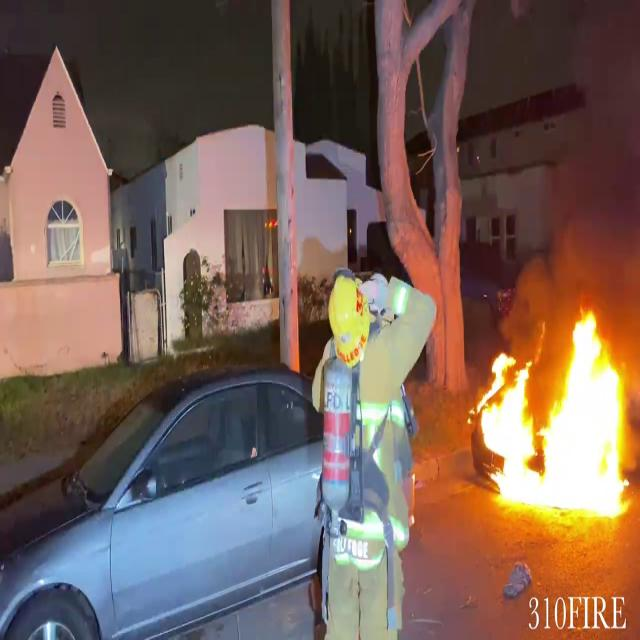Fire: (471, 300, 640, 525)
Smoke: (534, 119, 640, 326)
